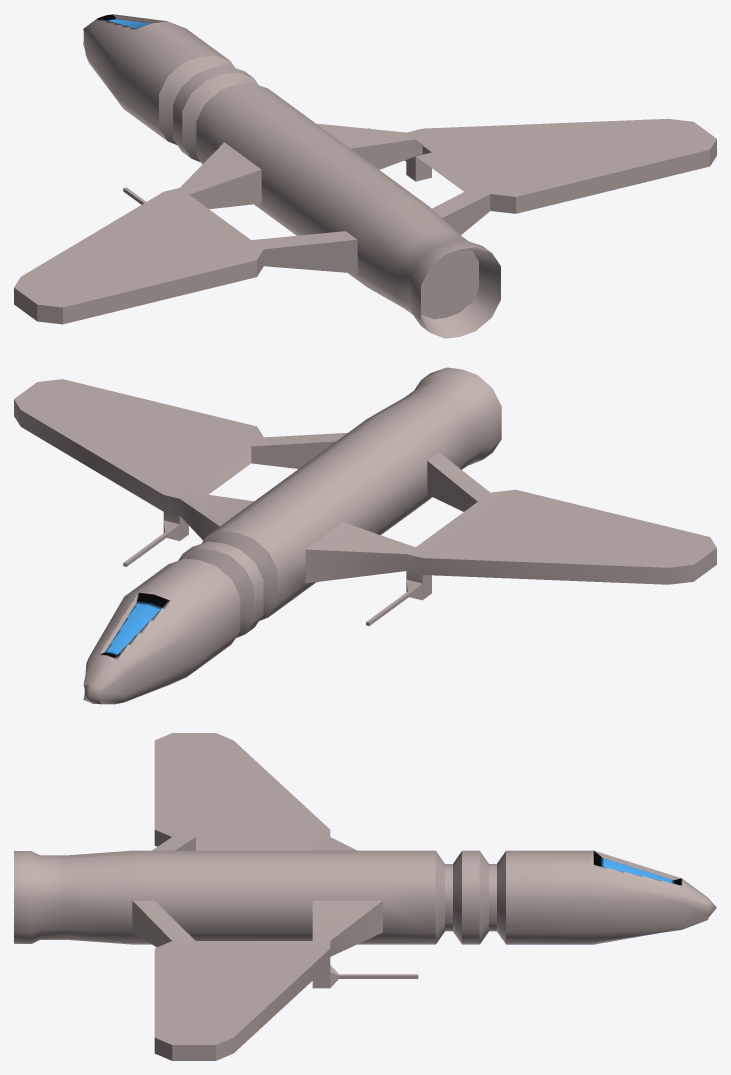
Rendered from enemyshipa.fbx.
The picture shows the model from 3 angles, top to bottom: view 1: azimuth 30°, elevation 25°; view 2: azimuth 150°, elevation 25°; view 3: azimuth 270°, elevation 25°; orthographic projection. The views are drawn at different scales.
Visible parts, largest first — view 1: Ship; view 2: Ship; view 3: Ship.
Boxes of the visible parts, x1=… form: Ship: x1=14, y1=14, x2=716, y2=338; Ship: x1=14, y1=367, x2=716, y2=704; Ship: x1=14, y1=733, x2=716, y2=1060.
Size of the model in its own units: 8.4 by 1.05 by 8.
Materials: 1 (1 with a texture image).
